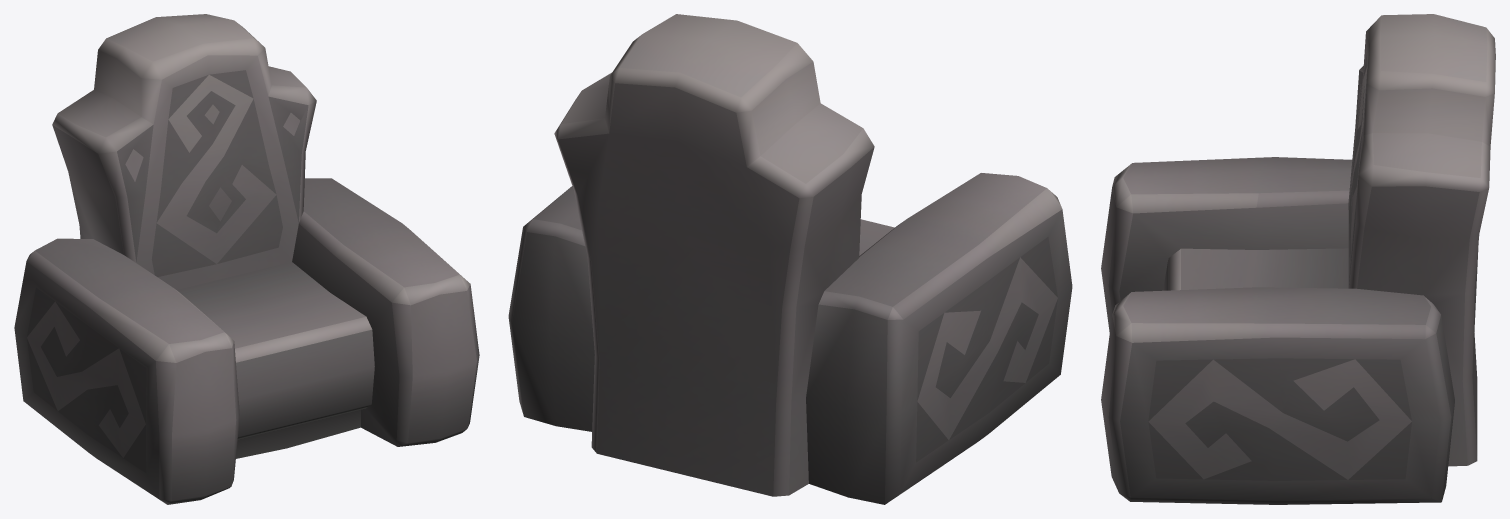
File: elf_throne.fbx
3 renders of one model, left to right at view 1: azimuth 30°, elevation 25°; view 2: azimuth 150°, elevation 25°; view 3: azimuth 270°, elevation 25°, orthographic. The views are drawn at different scales.
Visible parts, largest first — view 1: elf_throne; view 2: elf_throne; view 3: elf_throne.
Part boxes in pixels (x1,y1,x2,y2): elf_throne: (14, 14, 479, 504); elf_throne: (508, 14, 1072, 504); elf_throne: (1101, 14, 1495, 504).
Size of the model in its own units: 212 by 211 by 196.
